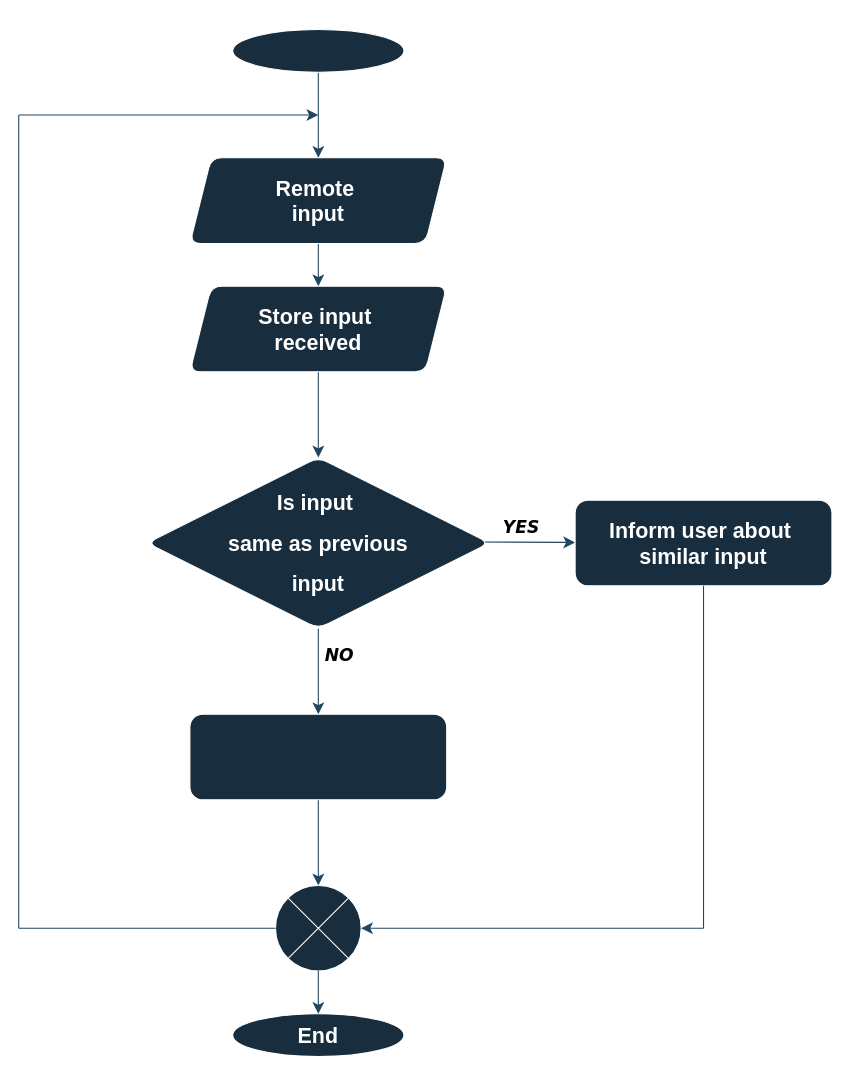
The diagram is 851 pixels wide and 1086 high, and some of its shapes have lost their labels. The centre of each missing label's shape, as x and y in pixels:
Start: (318,50)
Switch ON/OFF: (318,756)
